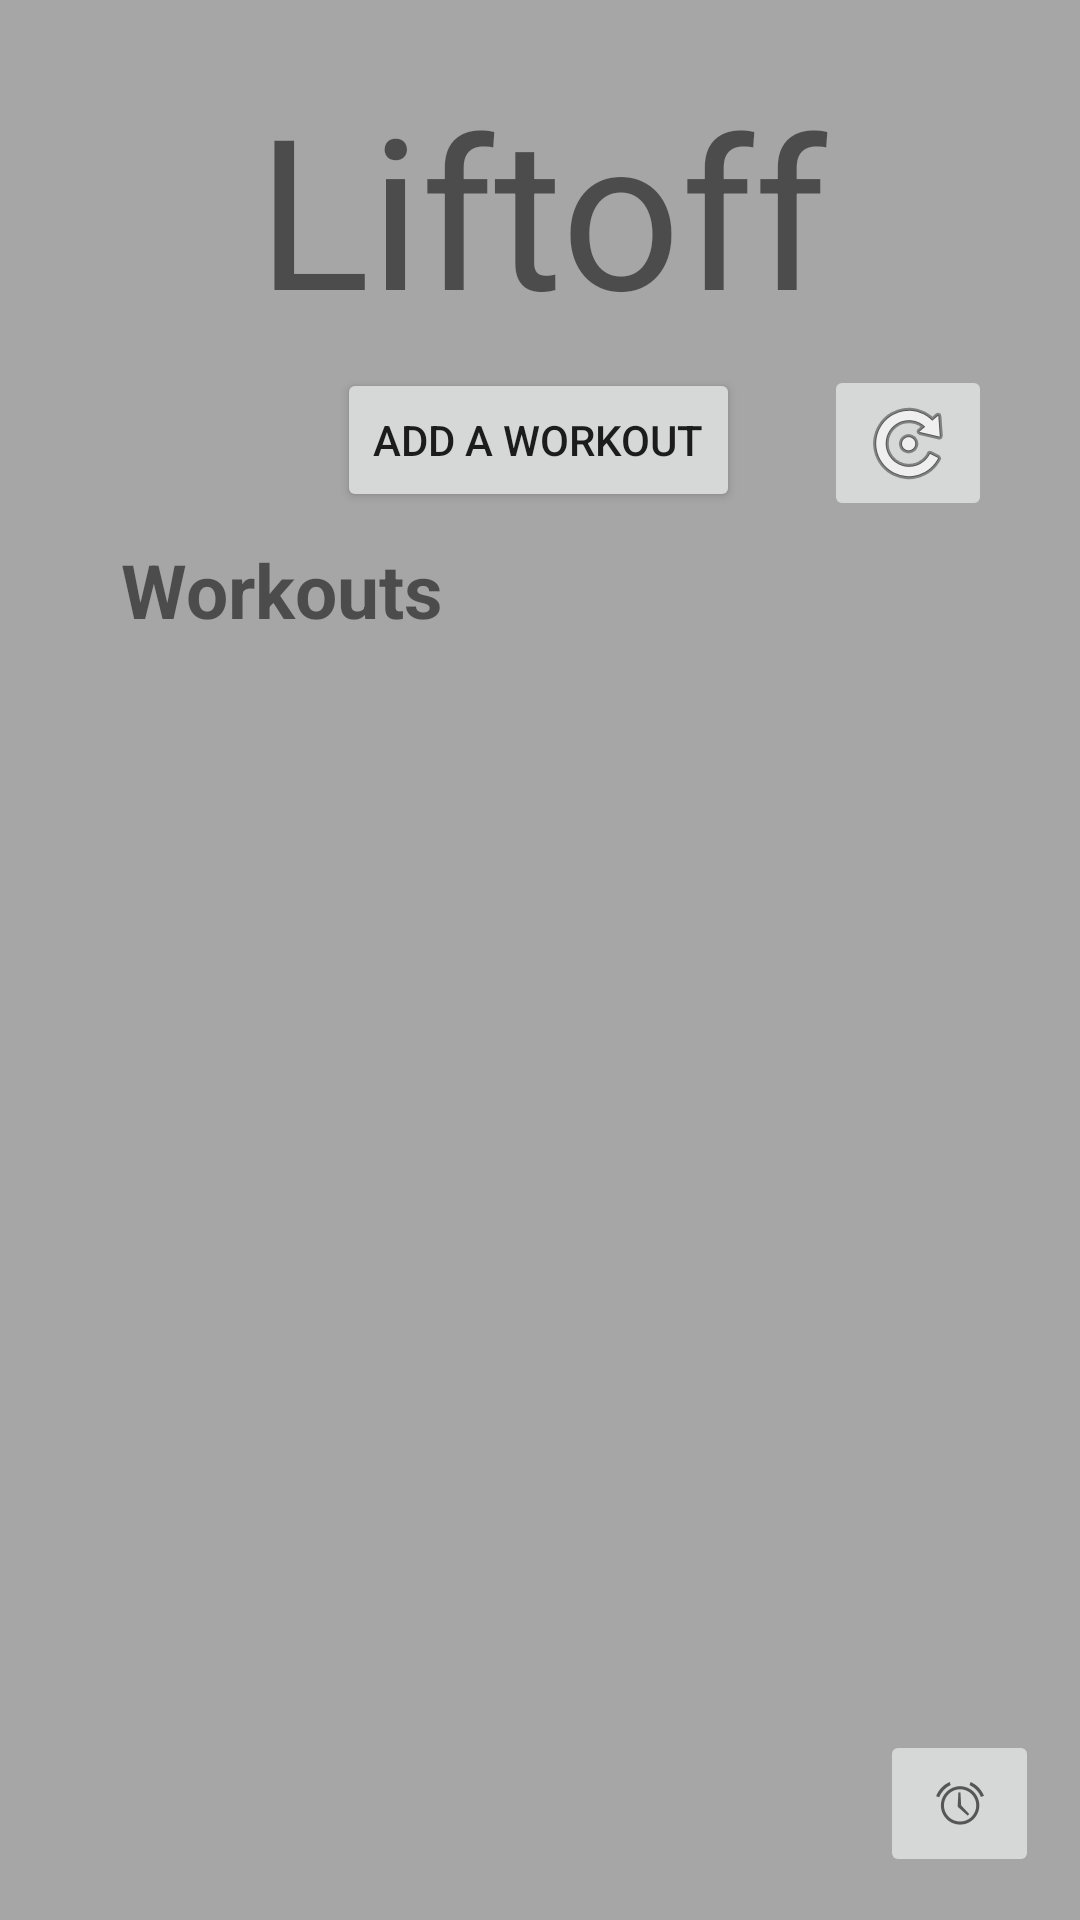

Point at icon controls on the screen. Image size 1080 × 1920, points as [x,y].
lock idle alarm: [959,1803]
rotate: [908,443]
